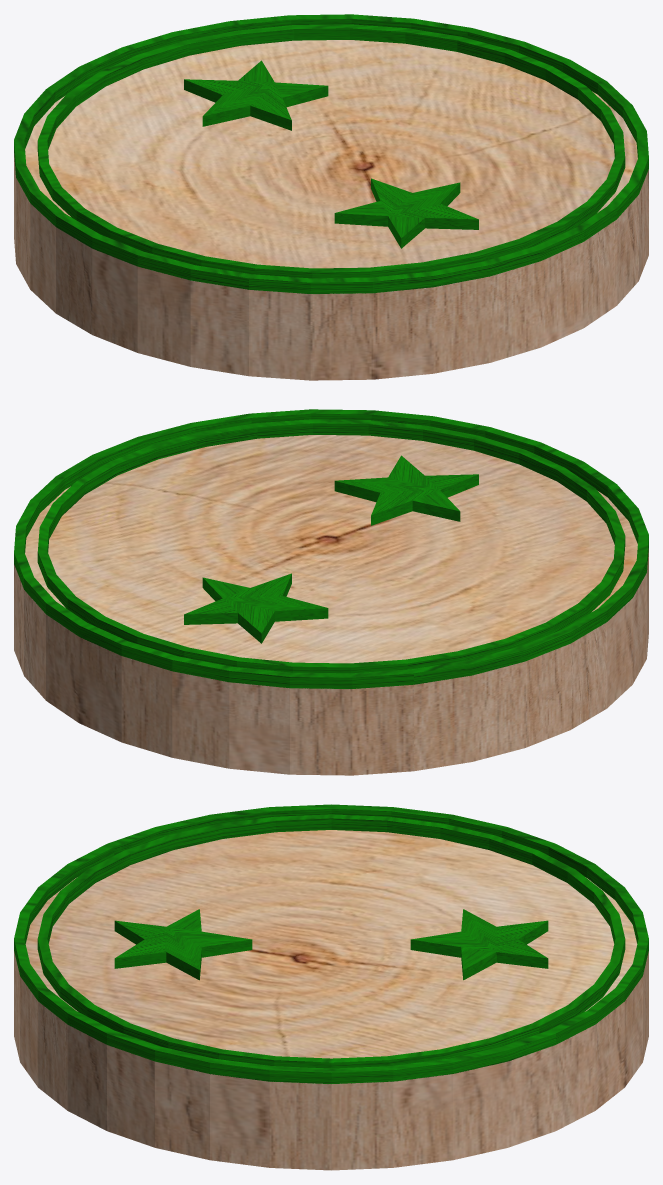
Rendered from Sternestein2.fbx.
3 renders of one model, top to bottom at view 1: azimuth 30°, elevation 25°; view 2: azimuth 150°, elevation 25°; view 3: azimuth 270°, elevation 25°, orthographic.
Parts seen in each view (by area): view 1: Stern2; view 2: Stern2; view 3: Stern2.
Part boxes in pixels (x1=…): Stern2: x1=14, y1=14, x2=648, y2=380; Stern2: x1=14, y1=409, x2=648, y2=775; Stern2: x1=14, y1=804, x2=648, y2=1170.
Bounding box in the file's own units: 200 × 34 × 200.
